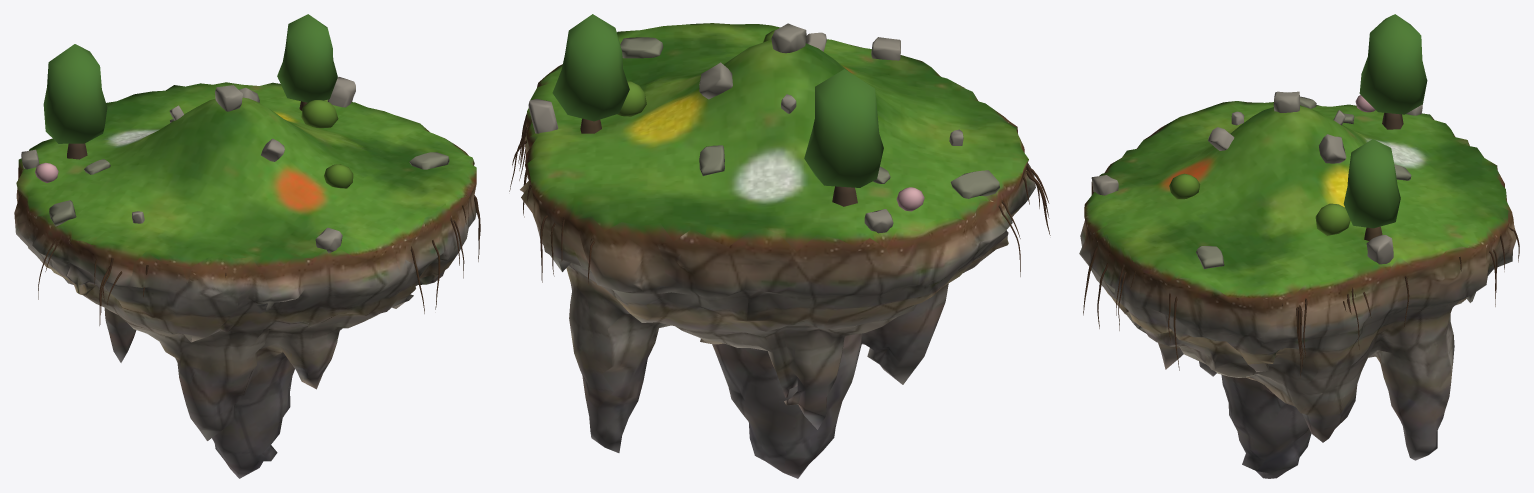
The model's file is island-hill-lod1.glb.
3 renders of one model, left to right at view 1: azimuth 30°, elevation 25°; view 2: azimuth 150°, elevation 25°; view 3: azimuth 270°, elevation 25°, orthographic. The views are drawn at different scales.
Visible parts, largest first — view 1: Terrain, Detail; view 2: Terrain, Detail; view 3: Terrain, Detail.
Boxes of the visible parts, left/top/right/bottom form: Terrain: left=14, top=82, right=476, bottom=478; Detail: left=21, top=14, right=480, bottom=325; Terrain: left=520, top=23, right=1035, bottom=478; Detail: left=509, top=14, right=1050, bottom=284; Terrain: left=1079, top=101, right=1516, bottom=478; Detail: left=1083, top=14, right=1519, bottom=377.
Bounding box in the file's own units: 32.81 × 31.5 × 30.29.
2 materials, 1 textured.
